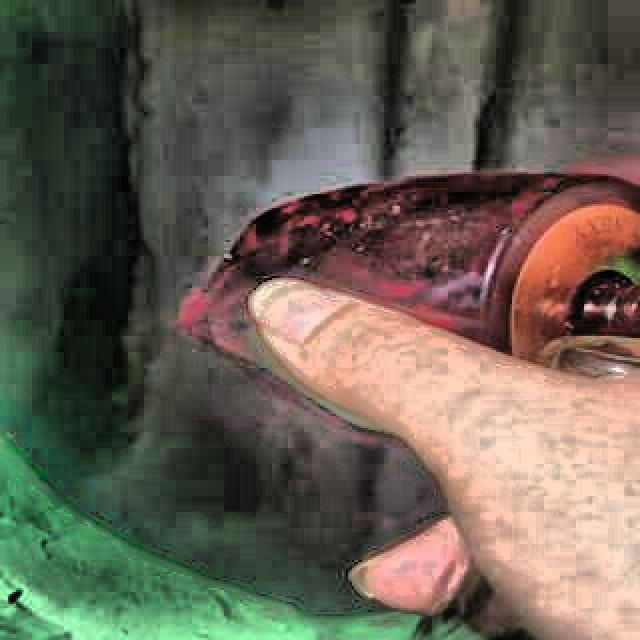glass: (179, 174, 640, 429)
